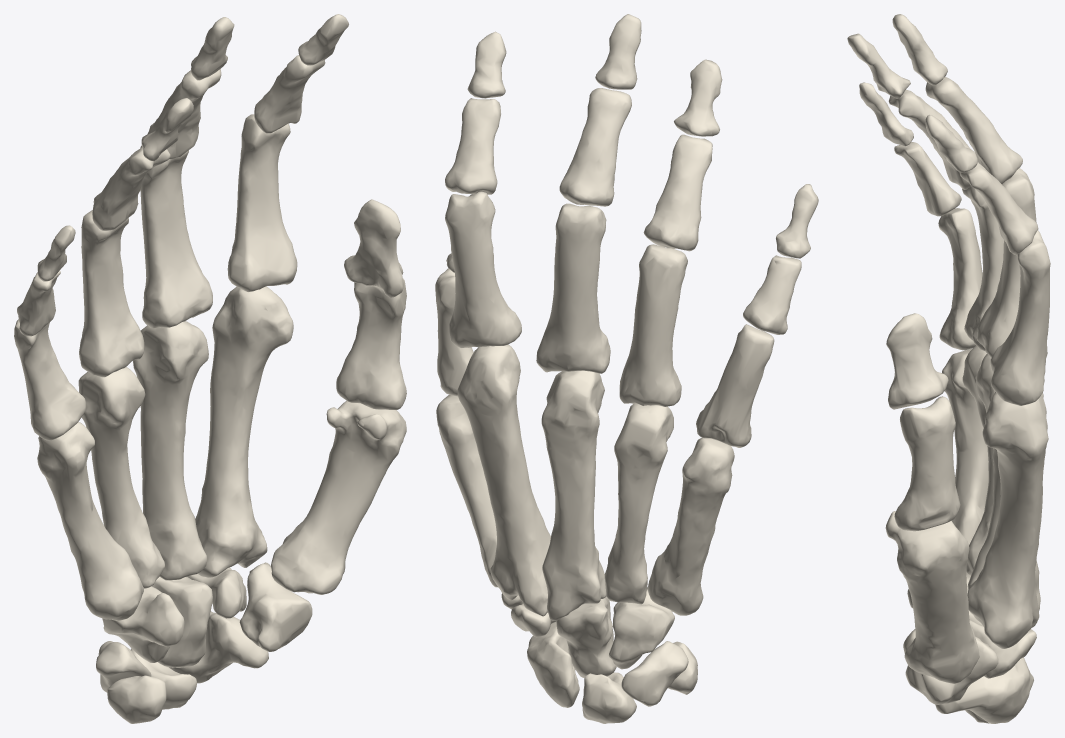
Rendered from hand_bones_right.glb.
3 renders of one model, left to right at view 1: azimuth 30°, elevation 25°; view 2: azimuth 150°, elevation 25°; view 3: azimuth 270°, elevation 25°, orthographic. The views are drawn at different scales.
Parts seen in each view (by area): view 1: mc2, mc3, mc1, mc5, mc4, pp3, pp2, pp4, pp1, pp5, trapezium, dp1 (+15 smaller); view 2: mc2, mc3, pp3, mc4, mc5, pp2, pp4, mp3, pp5, mp4, mc1, mp2 (+13 smaller); view 3: mc2, mc1, pp2, pp1, mc5, dp1, pp5, pp3, mp3, scaphoid, pp4, mp2 (+10 smaller).
Part boxes in pixels (left/top/right/bottom): mc2: left=195, top=286, right=293, bottom=577; mc3: left=133, top=321, right=208, bottom=580; mc1: left=271, top=400, right=406, bottom=594; mc5: left=37, top=422, right=143, bottom=620; mc4: left=78, top=367, right=164, bottom=588; pp3: left=140, top=145, right=212, bottom=328; pp2: left=227, top=114, right=297, bottom=291; pp4: left=79, top=210, right=144, bottom=377; pp1: left=336, top=278, right=406, bottom=409; pp5: left=14, top=319, right=85, bottom=440; trapezium: left=239, top=562, right=312, bottom=651; dp1: left=344, top=199, right=403, bottom=297; mc2: left=457, top=344, right=550, bottom=616; mc3: left=541, top=370, right=606, bottom=620; pp3: left=536, top=203, right=610, bottom=373; mc4: left=604, top=403, right=673, bottom=604; mc5: left=647, top=437, right=734, bottom=615; pp2: left=445, top=191, right=521, bottom=347; pp4: left=619, top=244, right=687, bottom=406; mp3: left=559, top=88, right=631, bottom=206; pp5: left=696, top=324, right=774, bottom=447; mp4: left=643, top=134, right=712, bottom=251; mc1: left=436, top=395, right=498, bottom=587; mp2: left=445, top=98, right=500, bottom=194; mc2: left=967, top=392, right=1048, bottom=648; mc1: left=885, top=511, right=979, bottom=683; pp2: left=990, top=230, right=1050, bottom=405; pp1: left=894, top=396, right=960, bottom=531; mc5: left=942, top=348, right=988, bottom=544; dp1: left=886, top=313, right=948, bottom=409; pp5: left=938, top=208, right=982, bottom=350; pp3: left=976, top=168, right=1036, bottom=357; mp3: left=925, top=77, right=1022, bottom=183; scaphoid: left=935, top=657, right=1033, bottom=723; pp4: left=962, top=186, right=1003, bottom=351; mp2: left=959, top=162, right=1038, bottom=254.
Bounding box in the file's own units: 0.1056 × 0.1898 × 0.0492.
